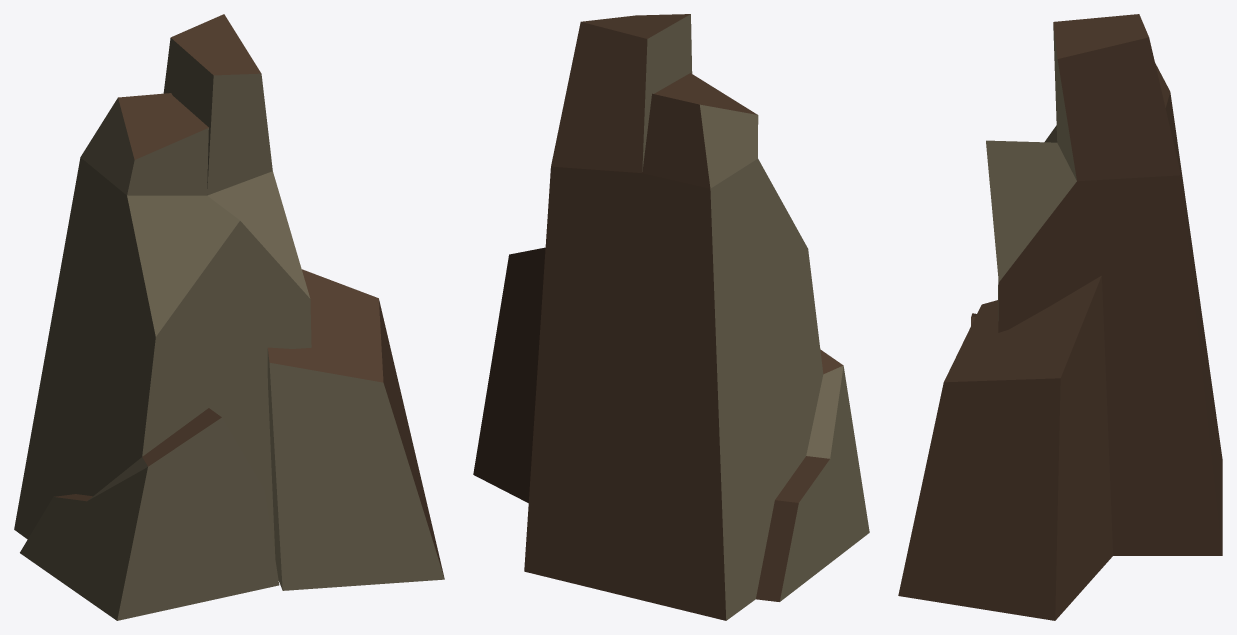
Rendered from rocks2.fbx.
3 renders of one model, left to right at view 1: azimuth 30°, elevation 25°; view 2: azimuth 150°, elevation 25°; view 3: azimuth 270°, elevation 25°, orthographic. The views are drawn at different scales.
Parts seen in each view (by area): view 1: rocks.002; view 2: rocks.002; view 3: rocks.002.
Boxes of the visible parts, x1,y1,x2,y2 form: rocks.002: (14, 14, 444, 620); rocks.002: (473, 14, 869, 620); rocks.002: (898, 14, 1222, 620).
Size of the model in its own units: 150 by 207 by 119.
